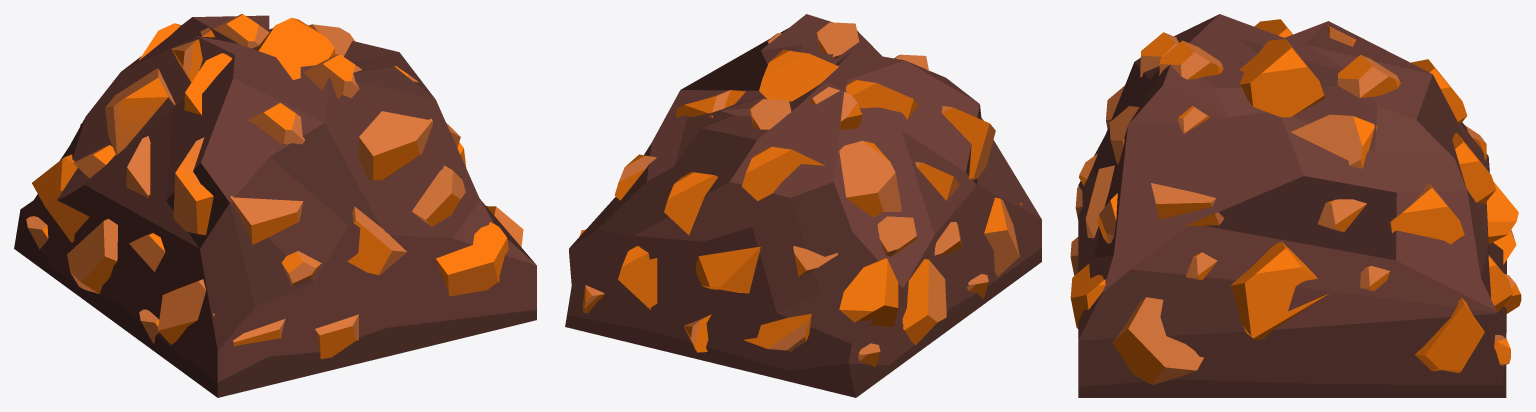
Rendered from pile_iron_ore.fbx.
3 renders of one model, left to right at view 1: azimuth 30°, elevation 25°; view 2: azimuth 150°, elevation 25°; view 3: azimuth 270°, elevation 25°, orthographic. The views are drawn at different scales.
Parts seen in each view (by area): view 1: Cube.001; view 2: Cube.001; view 3: Cube.001.
Boxes of the visible parts, bbox=[...] form: Cube.001: bbox=[14, 14, 536, 397]; Cube.001: bbox=[565, 14, 1041, 397]; Cube.001: bbox=[1070, 14, 1521, 397].
Size of the model in its own units: 274 by 196 by 289.
